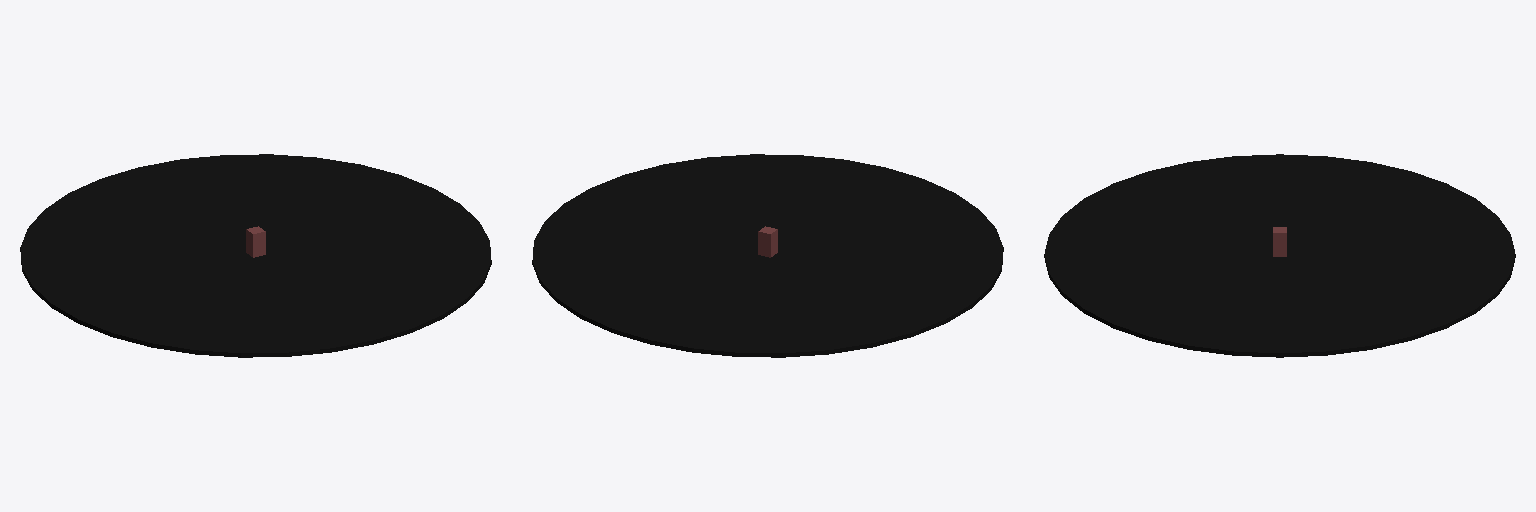
The robot description file, URDF, robot "two_arm_panda_gripper":
<?xml version='1.0' encoding='utf-8'?>
<robot name="two_arm_panda_gripper">


    <link name="base">
      <inertial>
        <origin xyz="0 0 0" rpy="0 0 0" />
        <mass value="4" />
        <inertia ixx="0.4" iyy="0.4" izz="0.4" ixy="0" ixz="0" iyz="0" />
      </inertial>
      <visual>
        <geometry>
          <cylinder radius="5" length="0.1"/>
        </geometry>
        <material name="material_gray">
          <color rgba="0.1 0.1 0.1 1.0" />
        </material>
      </visual>
<!--       <collision>
        <geometry>
          <cylinder radius="5" length="0.1"/>
        </geometry>
      </collision> -->
    </link>
    <link name="chest">
      <inertial>
        <origin xyz="0 0 0" rpy="0 0 0" />
        <mass value="4" />
        <inertia ixx="0.4" iyy="0.4" izz="0.4" ixy="0" ixz="0" iyz="0" />
      </inertial>
      <visual>
        <geometry>
          <box size="0.3 0.3 1.2"/>
        </geometry>
        <material name="material_red">
          <color rgba="0.5 0.3 0.3 1.0" />
        </material>        
      </visual>
<!--       <visual>
        <origin xyz="0 0 0.8" rpy="0 0 0" />
        <geometry>
          <sphere radius="0.15"/>
        </geometry>
        <material name="material_red">
          <color rgba="0.3 0.5 0.3 1.0" />
        </material>        
      </visual>
      <visual>
        <origin xyz="0 0 0.59" rpy="0 0 0" />
        <geometry>
          <cylinder radius="0.08" length="0.1"/>
        </geometry>
        <material name="material_red">
          <color rgba="0.3 0.3 0.5 1.0" />
        </material>        
      </visual> -->
      <visual>
        <origin xyz="0 0.15 0.5" rpy="-1.57079632679 0 0" />
        <geometry>
          <mesh filename="../../../Model/meshes/visual/link0.obj"/>
        </geometry>
      </visual>
      <visual>
        <origin xyz="0 -0.15 0.5" rpy="1.57079632679 0 0" />
        <geometry>
          <mesh filename="../../../Model/meshes/visual/link0.obj"/>
        </geometry>
      </visual>
<!--       <collision>
        <geometry>
          <box size="0.2 0.2 1.6"/>
        </geometry>
      </collision> -->
    </link>

<!--   LEFT ARM     -->

    <link name="left_arm_link1">
      <inertial>
        <origin xyz="0 0 -0.07" rpy="0 -0 0" />
        <mass value="3" />
        <inertia ixx="0.3" iyy="0.3" izz="0.3" ixy="0" ixz="0" iyz="0" />
      </inertial>
      <visual>
        <geometry>
          <mesh filename="../../../Model/meshes/visual/link1.obj"/>
        </geometry>
      </visual>
      <!-- <collision>
        <geometry>
          <mesh filename="../../../Model/meshes/collision/link1.obj"/>
        </geometry>
      </collision> -->
    </link>
    <link name="left_arm_link2">
      <inertial>
        <origin xyz="0 -0.1 0" rpy="0 -0 0" />
        <mass value="3" />
        <inertia ixx="0.3" iyy="0.3" izz="0.3" ixy="0" ixz="0" iyz="0" />
      </inertial>
      <visual>
        <geometry>
          <mesh filename="../../../Model/meshes/visual/link2.obj"/>
        </geometry>
      </visual>
      <!-- <collision>
        <geometry>
          <mesh filename="../../../Model/meshes/collision/link2.obj"/>
        </geometry>
      </collision> -->
    </link>
    <link name="left_arm_link3">
      <inertial>
        <origin xyz="0.04 0 -0.05" rpy="0 -0 0" />
        <mass value="2" />
        <inertia ixx="0.2" iyy="0.2" izz="0.2" ixy="0" ixz="0" iyz="0" />
      </inertial>
      <visual>
        <geometry>
          <mesh filename="../../../Model/meshes/visual/link3.obj"/>
        </geometry>
      </visual>
      <!-- <collision>
        <geometry>
          <mesh filename="../../../Model/meshes/collision/link3.obj"/>
        </geometry>
      </collision> -->
    </link>
    <link name="left_arm_link4">
      <inertial>
        <origin xyz="-0.04 0.05 0" rpy="0 -0 0" />
        <mass value="2" />
        <inertia ixx="0.2" iyy="0.2" izz="0.2" ixy="0" ixz="0" iyz="0" />
      </inertial>
      <visual>
        <geometry>
          <mesh filename="../../../Model/meshes/visual/link4.obj"/>
        </geometry>
      </visual>
<!--       <collision>
        <geometry>
          <mesh filename="../../../Model/meshes/collision/link4.obj"/>
        </geometry>
      </collision> -->
    </link>
    <link name="left_arm_link5">
      <inertial>
        <origin xyz="0 0 -0.15" rpy="0 -0 0" />
        <mass value="2" />
        <inertia ixx="0.2" iyy="0.2" izz="0.2" ixy="0" ixz="0" iyz="0" />
      </inertial>
      <visual>
        <geometry>
          <mesh filename="../../../Model/meshes/visual/link5.obj"/>
        </geometry>
      </visual>
<!--       <collision>
        <geometry>
          <mesh filename="../../../Model/meshes/collision/link5.obj"/>
        </geometry>
      </collision> -->
    </link>
    <link name="left_arm_link6">
      <inertial>
        <origin xyz="0.06 0 0" rpy="0 -0 0" />
        <mass value="1.5" />
        <inertia ixx="0.1" iyy="0.1" izz="0.1" ixy="0" ixz="0" iyz="0" />
      </inertial>
      <visual>
        <geometry>
          <mesh filename="../../../Model/meshes/visual/link6.obj"/>
        </geometry>
      </visual>
      <!-- <collision>
        <geometry>
          <mesh filename="../../../Model/meshes/collision/link6.obj"/>
        </geometry>
      </collision> -->
    </link>
    <link name="left_arm_link7">
      <inertial>
        <origin xyz="0 0 0.17" rpy="0 -0 0" />
        <mass value="1.8" />
        <inertia ixx="0.09" iyy="0.05" izz="0.07" ixy="0" ixz="0" iyz="0" />
      </inertial>
      <visual>
        <geometry>
          <mesh filename="../../../Model/meshes/visual/link7.obj"/>
        </geometry>
      </visual>
      <!-- <collision>
        <geometry>
          <mesh filename="../../../Model/meshes/collision/link7.obj"/>
        </geometry>
      </collision> -->
      <visual>
        <origin xyz="0 0 0.107" rpy="0 0 -0.78539816339" />
        <geometry>
          <mesh filename="../../../Model/meshes/visual/hand.obj"/>
        </geometry>
      </visual>
<!--       <collision>
        <origin xyz="0 0 0.107" rpy="0 0 -0.78539816339" />
        <geometry>
          <mesh filename="../../../Model/meshes/collision/hand.obj"/>
        </geometry>
      </collision> -->
    </link>
    <link name="left_arm_leftfinger">
      <inertial>
        <origin xyz="0 0 0.05" rpy="0 -0 0" />
        <mass value="0.1" />
        <inertia ixx="0.01" iyy="0.01" izz="0.005" ixy="0" ixz="0" iyz="0" />
      </inertial>
      <visual>
        <geometry>
          <mesh filename="../../../Model/meshes/collision/finger.obj"/>
        </geometry>
      </visual>
      <collision>
        <geometry>
          <mesh filename="../../../Model/meshes/collision/finger.obj"/>
        </geometry>
      </collision>
    </link>
    <link name="left_arm_rightfinger">
      <inertial>
        <origin xyz="0 0 0.05" rpy="0 -0 0" />
        <mass value="0.1" />
        <inertia ixx="0.01" iyy="0.01" izz="0.005" ixy="0" ixz="0" iyz="0" />
      </inertial>
      <visual>
        <origin xyz="0 0 0" rpy="0 0 3.14159265359" />
        <geometry>
          <mesh filename="../../../Model/meshes/collision/finger.obj"/>
        </geometry>
      </visual>
      <collision>
        <origin xyz="0 0 0" rpy="0 0 3.14159265359" />
        <geometry>
          <mesh filename="../../../Model/meshes/collision/finger.obj"/>
        </geometry>
      </collision>
    </link>

<!--   RIGHT ARM     -->

    <link name="right_arm_link1">
      <inertial>
        <origin xyz="0 0 -0.07" rpy="0 -0 0" />
        <mass value="3" />
        <inertia ixx="0.3" iyy="0.3" izz="0.3" ixy="0" ixz="0" iyz="0" />
      </inertial>
      <visual>
        <geometry>
          <mesh filename="../../../Model/meshes/visual/link1.obj"/>
        </geometry>
      </visual>
      <!-- <collision>
        <geometry>
          <mesh filename="../../../Model/meshes/collision/link1.obj"/>
        </geometry>
      </collision> -->
    </link>
    <link name="right_arm_link2">
      <inertial>
        <origin xyz="0 -0.1 0" rpy="0 -0 0" />
        <mass value="3" />
        <inertia ixx="0.3" iyy="0.3" izz="0.3" ixy="0" ixz="0" iyz="0" />
      </inertial>
      <visual>
        <geometry>
          <mesh filename="../../../Model/meshes/visual/link2.obj"/>
        </geometry>
      </visual>
      <!-- <collision>
        <geometry>
          <mesh filename="../../../Model/meshes/collision/link2.obj"/>
        </geometry>
      </collision> -->
    </link>
    <link name="right_arm_link3">
      <inertial>
        <origin xyz="0.04 0 -0.05" rpy="0 -0 0" />
        <mass value="2" />
        <inertia ixx="0.2" iyy="0.2" izz="0.2" ixy="0" ixz="0" iyz="0" />
      </inertial>
      <visual>
        <geometry>
          <mesh filename="../../../Model/meshes/visual/link3.obj"/>
        </geometry>
      </visual>
      <!-- <collision>
        <geometry>
          <mesh filename="../../../Model/meshes/collision/link3.obj"/>
        </geometry>
      </collision> -->
    </link>
    <link name="right_arm_link4">
      <inertial>
        <origin xyz="-0.04 0.05 0" rpy="0 -0 0" />
        <mass value="2" />
        <inertia ixx="0.2" iyy="0.2" izz="0.2" ixy="0" ixz="0" iyz="0" />
      </inertial>
      <visual>
        <geometry>
          <mesh filename="../../../Model/meshes/visual/link4.obj"/>
        </geometry>
      </visual>
<!--       <collision>
        <geometry>
          <mesh filename="../../../Model/meshes/collision/link4.obj"/>
        </geometry>
      </collision> -->
    </link>
    <link name="right_arm_link5">
      <inertial>
        <origin xyz="0 0 -0.15" rpy="0 -0 0" />
        <mass value="2" />
        <inertia ixx="0.2" iyy="0.2" izz="0.2" ixy="0" ixz="0" iyz="0" />
      </inertial>
      <visual>
        <geometry>
          <mesh filename="../../../Model/meshes/visual/link5.obj"/>
        </geometry>
      </visual>
<!--       <collision>
        <geometry>
          <mesh filename="../../../Model/meshes/collision/link5.obj"/>
        </geometry>
      </collision> -->
    </link>
    <link name="right_arm_link6">
      <inertial>
        <origin xyz="0.06 0 0" rpy="0 -0 0" />
        <mass value="1.5" />
        <inertia ixx="0.1" iyy="0.1" izz="0.1" ixy="0" ixz="0" iyz="0" />
      </inertial>
      <visual>
        <geometry>
          <mesh filename="../../../Model/meshes/visual/link6.obj"/>
        </geometry>
      </visual>
      <!-- <collision>
        <geometry>
          <mesh filename="../../../Model/meshes/collision/link6.obj"/>
        </geometry>
      </collision> -->
    </link>
    <link name="right_arm_link7">
      <inertial>
        <origin xyz="0 0 0.17" rpy="0 -0 0" />
        <mass value="1.8" />
        <inertia ixx="0.09" iyy="0.05" izz="0.07" ixy="0" ixz="0" iyz="0" />
      </inertial>
      <visual>
        <geometry>
          <mesh filename="../../../Model/meshes/visual/link7.obj"/>
        </geometry>
      </visual>
      <!-- <collision>
        <geometry>
          <mesh filename="../../../Model/meshes/collision/link7.obj"/>
        </geometry>
      </collision> -->
      <visual>
        <origin xyz="0 0 0.107" rpy="0 0 -0.78539816339" />
        <geometry>
          <mesh filename="../../../Model/meshes/visual/hand.obj"/>
        </geometry>
      </visual>
<!--       <collision>
        <origin xyz="0 0 0.107" rpy="0 0 -0.78539816339" />
        <geometry>
          <mesh filename="../../../Model/meshes/collision/hand.obj"/>
        </geometry>
      </collision> -->
    </link>
    <link name="right_arm_leftfinger">
      <inertial>
        <origin xyz="0 0 0.05" rpy="0 -0 0" />
        <mass value="0.1" />
        <inertia ixx="0.01" iyy="0.01" izz="0.005" ixy="0" ixz="0" iyz="0" />
      </inertial>
      <visual>
        <geometry>
          <mesh filename="../../../Model/meshes/collision/finger.obj"/>
        </geometry>
      </visual>
      <collision>
        <geometry>
          <mesh filename="../../../Model/meshes/collision/finger.obj"/>
        </geometry>
      </collision>
    </link>
    <link name="right_arm_rightfinger">
      <inertial>
        <origin xyz="0 0 0.05" rpy="0 -0 0" />
        <mass value="0.1" />
        <inertia ixx="0.01" iyy="0.01" izz="0.005" ixy="0" ixz="0" iyz="0" />
      </inertial>
      <visual>
        <origin xyz="0 0 0" rpy="0 0 3.14159265359" />
        <geometry>
          <mesh filename="../../../Model/meshes/collision/finger.obj"/>
        </geometry>
      </visual>
      <collision>
        <origin xyz="0 0 0" rpy="0 0 3.14159265359" />
        <geometry>
          <mesh filename="../../../Model/meshes/collision/finger.obj"/>
        </geometry>
      </collision>
    </link>


    <joint name="trunk" type="prismatic">
      <safety_controller k_position="100.0" k_velocity="40.0" soft_lower_limit="-2.8973" soft_upper_limit="2.8973"/>
      <origin rpy="0 0 0" xyz="0 0 0"/>
      <parent link="base"/>
      <child link="chest"/>
      <axis xyz="0 0 1"/>
      <limit effort="87" lower="-2.8973" upper="2.8973" velocity="2.1750"/>
    </joint>


<!--   LEFT ARM JOINT     -->

    <joint name="left_arm_joint1" type="revolute">
      <safety_controller k_position="100.0" k_velocity="40.0" soft_lower_limit="-2.8973" soft_upper_limit="2.8973"/>
      <origin rpy="-1.57079632679 0 0" xyz="0 0.483 0.5"/>
      <parent link="chest"/>
      <child link="left_arm_link1"/>
      <axis xyz="0 0 1"/>
      <limit effort="87" lower="-2.8973" upper="2.8973" velocity="2.1750"/>
    </joint>
    <joint name="left_arm_joint2" type="revolute">
      <safety_controller k_position="100.0" k_velocity="40.0" soft_lower_limit="-1.7628" soft_upper_limit="1.7628"/>
      <origin rpy="-1.57079632679 0 0" xyz="0 0 0"/>
      <parent link="left_arm_link1"/>
      <child link="left_arm_link2"/>
      <axis xyz="0 0 1"/>
      <calibration falling="60.0" />
      <limit effort="87" lower="-1.7628" upper="1.7628" velocity="2.1750"/>
    </joint>
    <joint name="left_arm_joint3" type="revolute">
      <safety_controller k_position="100.0" k_velocity="40.0" soft_lower_limit="-2.8973" soft_upper_limit="2.8973"/>
      <origin rpy="1.57079632679 0 0" xyz="0 -0.316 0"/>
      <parent link="left_arm_link2"/>
      <child link="left_arm_link3"/>
      <axis xyz="0 0 1"/>
      <limit effort="87" lower="-2.8973" upper="2.8973" velocity="2.1750"/>
    </joint>
    <joint name="left_arm_joint4" type="revolute">
      <safety_controller k_position="100.0" k_velocity="40.0" soft_lower_limit="-3.0718" soft_upper_limit="-0.0698"/>
      <origin rpy="1.57079632679 0 0" xyz="0.0825 0 0"/>
      <parent link="left_arm_link3"/>
      <child link="left_arm_link4"/>
      <axis xyz="0 0 1"/>
      <calibration falling="-30.0" />
      <limit effort="87" lower="-3.0718" upper="-0.0698" velocity="2.1750"/>
    </joint>
    <joint name="left_arm_joint5" type="revolute">
      <safety_controller k_position="100.0" k_velocity="40.0" soft_lower_limit="-2.8973" soft_upper_limit="2.8973"/>
      <origin rpy="-1.57079632679 0 0" xyz="-0.0825 0.384 0"/>
      <parent link="left_arm_link4"/>
      <child link="left_arm_link5"/>
      <axis xyz="0 0 1"/>
      <limit effort="12" lower="-2.8973" upper="2.8973" velocity="2.6100"/>
    </joint>
    <joint name="left_arm_joint6" type="revolute">
      <safety_controller k_position="100.0" k_velocity="40.0" soft_lower_limit="-0.0175" soft_upper_limit="3.7525"/>
      <origin rpy="1.57079632679 0 0" xyz="0 0 0"/>
      <parent link="left_arm_link5"/>
      <child link="left_arm_link6"/>
      <axis xyz="0 0 1"/>
      <calibration falling="90.0" />
      <limit effort="12" lower="-0.0175" upper="3.7525" velocity="2.6100"/>
    </joint>
    <joint name="left_arm_joint7" type="revolute">
      <safety_controller k_position="100.0" k_velocity="40.0" soft_lower_limit="-2.8973" soft_upper_limit="2.8973"/>
      <origin rpy="1.57079632679 0 0" xyz="0.088 0 0"/>
      <parent link="left_arm_link6"/>
      <child link="left_arm_link7"/>
      <axis xyz="0 0 1"/>
      <calibration falling="45.0" />
      <limit effort="12" lower="-2.8973" upper="2.8973" velocity="2.6100"/>
    </joint>
    <joint name="left_arm_finger_joint1" type="prismatic">
      <parent link="left_arm_link7"/>
      <child link="left_arm_leftfinger"/>
      <origin xyz="0 0 0.1654" rpy="0 0 -0.78539816339"/>
      <axis xyz="0 1 0"/>
      <calibration rising="0.02" />
      <limit effort="20" lower="0.0" upper="0.04" velocity="0.2"/>
    </joint>
    <joint name="left_arm_finger_joint2" type="prismatic">
      <parent link="left_arm_link7"/>
      <child link="left_arm_rightfinger"/>
      <origin xyz="0 0 0.1654" rpy="0 0 -0.78539816339"/>
      <axis xyz="0 1 0"/>
      <calibration rising="-0.02" />
      <limit effort="20" lower="0.0" upper="0.04" velocity="0.2"/>
      <!-- <mimic joint="finger_joint1" /> -->
    </joint>

<!--   RIGHT ARM JOINT     -->

    <joint name="right_arm_joint1" type="revolute">
      <safety_controller k_position="100.0" k_velocity="40.0" soft_lower_limit="-2.8973" soft_upper_limit="2.8973"/>
      <origin rpy="1.57079632679 0 0" xyz="0 -0.483 0.5"/>
      <parent link="chest"/>
      <child link="right_arm_link1"/>
      <axis xyz="0 0 1"/>
      <limit effort="87" lower="-2.8973" upper="2.8973" velocity="2.1750"/>
    </joint>
    <joint name="right_arm_joint2" type="revolute">
      <safety_controller k_position="100.0" k_velocity="40.0" soft_lower_limit="-1.7628" soft_upper_limit="1.7628"/>
      <origin rpy="-1.57079632679 0 0" xyz="0 0 0"/>
      <parent link="right_arm_link1"/>
      <child link="right_arm_link2"/>
      <axis xyz="0 0 1"/>
      <calibration falling="60.0" />
      <limit effort="87" lower="-1.7628" upper="1.7628" velocity="2.1750"/>
    </joint>
    <joint name="right_arm_joint3" type="revolute">
      <safety_controller k_position="100.0" k_velocity="40.0" soft_lower_limit="-2.8973" soft_upper_limit="2.8973"/>
      <origin rpy="1.57079632679 0 0" xyz="0 -0.316 0"/>
      <parent link="right_arm_link2"/>
      <child link="right_arm_link3"/>
      <axis xyz="0 0 1"/>
      <limit effort="87" lower="-2.8973" upper="2.8973" velocity="2.1750"/>
    </joint>
    <joint name="right_arm_joint4" type="revolute">
      <safety_controller k_position="100.0" k_velocity="40.0" soft_lower_limit="-3.0718" soft_upper_limit="-0.0698"/>
      <origin rpy="1.57079632679 0 0" xyz="0.0825 0 0"/>
      <parent link="right_arm_link3"/>
      <child link="right_arm_link4"/>
      <axis xyz="0 0 1"/>
      <calibration falling="-30.0" />
      <limit effort="87" lower="-3.0718" upper="-0.0698" velocity="2.1750"/>
    </joint>
    <joint name="right_arm_joint5" type="revolute">
      <safety_controller k_position="100.0" k_velocity="40.0" soft_lower_limit="-2.8973" soft_upper_limit="2.8973"/>
      <origin rpy="-1.57079632679 0 0" xyz="-0.0825 0.384 0"/>
      <parent link="right_arm_link4"/>
      <child link="right_arm_link5"/>
      <axis xyz="0 0 1"/>
      <limit effort="12" lower="-2.8973" upper="2.8973" velocity="2.6100"/>
    </joint>
    <joint name="right_arm_joint6" type="revolute">
      <safety_controller k_position="100.0" k_velocity="40.0" soft_lower_limit="-0.0175" soft_upper_limit="3.7525"/>
      <origin rpy="1.57079632679 0 0" xyz="0 0 0"/>
      <parent link="right_arm_link5"/>
      <child link="right_arm_link6"/>
      <axis xyz="0 0 1"/>
      <calibration falling="90.0" />
      <limit effort="12" lower="-0.0175" upper="3.7525" velocity="2.6100"/>
    </joint>
    <joint name="right_arm_joint7" type="revolute">
      <safety_controller k_position="100.0" k_velocity="40.0" soft_lower_limit="-2.8973" soft_upper_limit="2.8973"/>
      <origin rpy="1.57079632679 0 0" xyz="0.088 0 0"/>
      <parent link="right_arm_link6"/>
      <child link="right_arm_link7"/>
      <axis xyz="0 0 1"/>
      <calibration falling="45.0" />
      <limit effort="12" lower="-2.8973" upper="2.8973" velocity="2.6100"/>
    </joint>
    <joint name="right_arm_finger_joint1" type="prismatic">
      <parent link="right_arm_link7"/>
      <child link="right_arm_leftfinger"/>
      <origin xyz="0 0 0.1654" rpy="0 0 -0.78539816339"/>
      <axis xyz="0 1 0"/>
      <calibration rising="0.02" />
      <limit effort="20" lower="0.0" upper="0.04" velocity="0.2"/>
    </joint>
    <joint name="right_arm_finger_joint2" type="prismatic">
      <parent link="right_arm_link7"/>
      <child link="right_arm_rightfinger"/>
      <origin xyz="0 0 0.1654" rpy="0 0 -0.78539816339"/>
      <axis xyz="0 1 0"/>
      <calibration rising="-0.02" />
      <limit effort="20" lower="0.0" upper="0.04" velocity="0.2"/>
      <!-- <mimic joint="finger_joint1" /> -->
    </joint>


</robot>

--- Facts derived from the render (not from the file) ---
3 views of the same robot in one strip: view 1: azimuth 30°, elevation 25°; view 2: azimuth 150°, elevation 25°; view 3: azimuth 270°, elevation 25° (orthographic).
Robot: two_arm_panda_gripper — 20 links, 19 joints (14 revolute, 5 prismatic); root link base; default pose: joints at zero except 2 at the middle of their limits (left_arm_joint4 = -1.57, right_arm_joint4 = -1.57).
Links seen in each view (by area): view 1: base, chest; view 2: base, chest; view 3: base.
Boxes of the visible links, bbox=[...] form: base: bbox=[20, 154, 491, 357]; chest: bbox=[246, 226, 265, 257]; base: bbox=[532, 154, 1003, 357]; chest: bbox=[758, 226, 777, 257]; base: bbox=[1044, 154, 1515, 357].
Bounding box of the posed robot: 10 × 10 × 1.2 m (x, y, z).
Geometry: only primitive shapes (box / cylinder / sphere) drawn; not drawn: 22 mesh visuals (reference in a form the renderer does not follow).